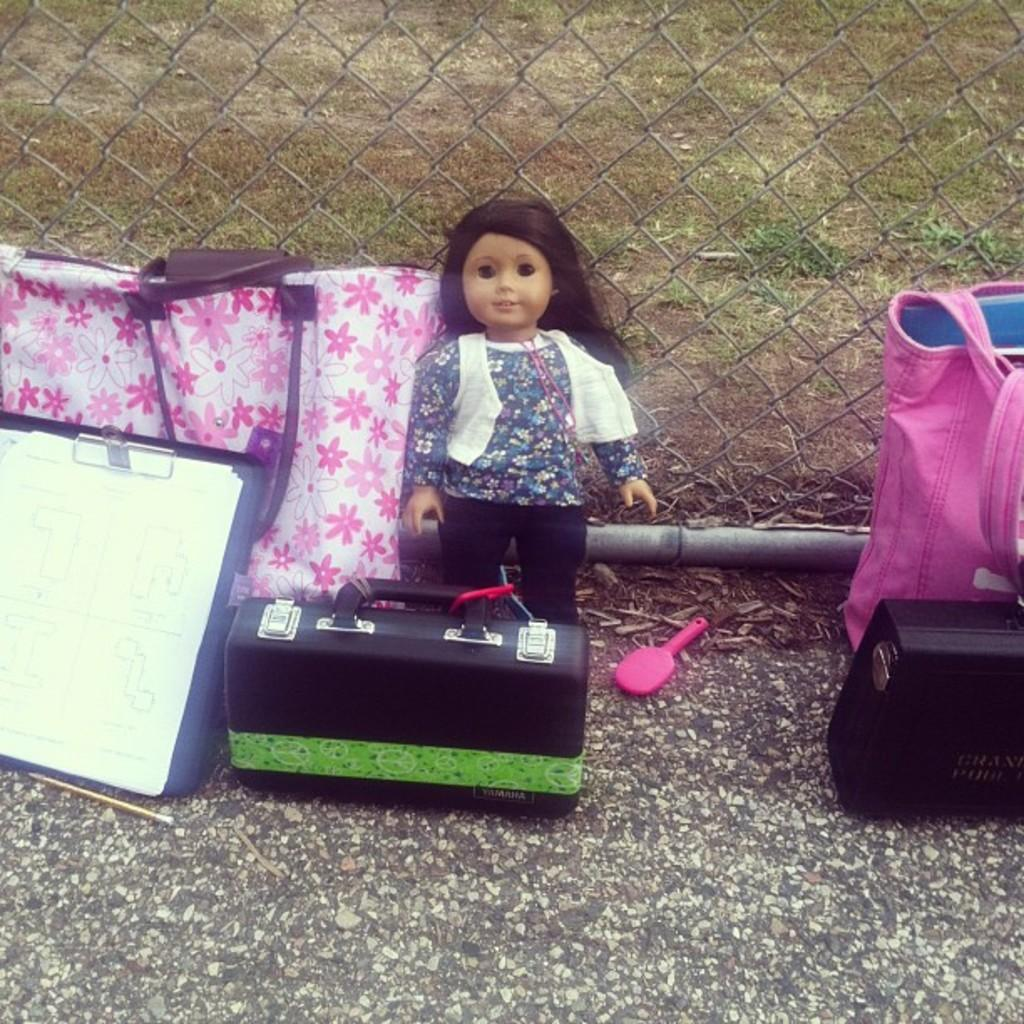Luggage-and-bags: (209, 535, 609, 828), (833, 273, 1022, 646), (827, 587, 1022, 817)
